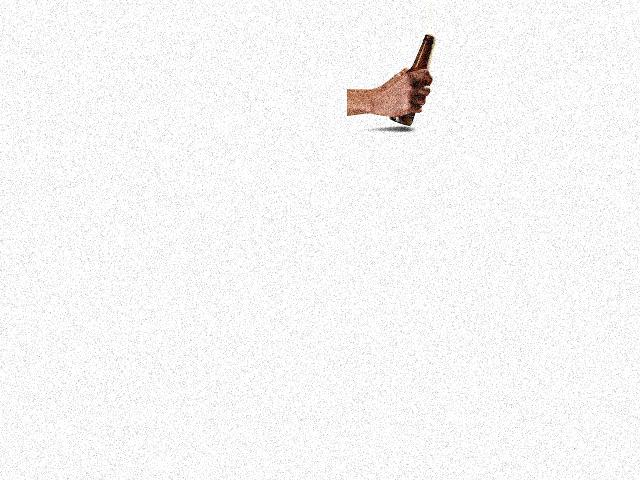beer: (389, 35, 434, 127)
